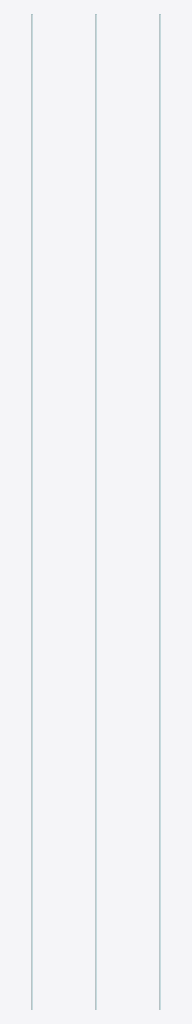
File: 01_effect_veinCylinder_funnel.glb
3 renders of one model, left to right at view 1: azimuth 90°, elevation 25°; view 2: azimuth 150°, elevation 25°; view 3: azimuth 270°, elevation 25°, orthographic.
Visible parts, largest first — view 1: 01_effect_veinCylinder_funnel; view 2: 01_effect_veinCylinder_funnel; view 3: 01_effect_veinCylinder_funnel.
Part boxes in pixels (box(x1,y1,x2,y2)): 01_effect_veinCylinder_funnel: box(31, 14, 32, 1009); 01_effect_veinCylinder_funnel: box(95, 14, 96, 1009); 01_effect_veinCylinder_funnel: box(159, 14, 160, 1009).
Size of the model in its own units: 1 by 1000 by 1.
